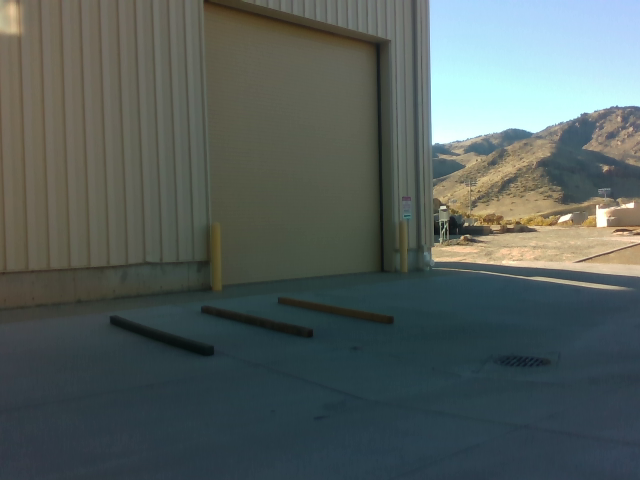dunnage: (97, 280, 408, 387)
